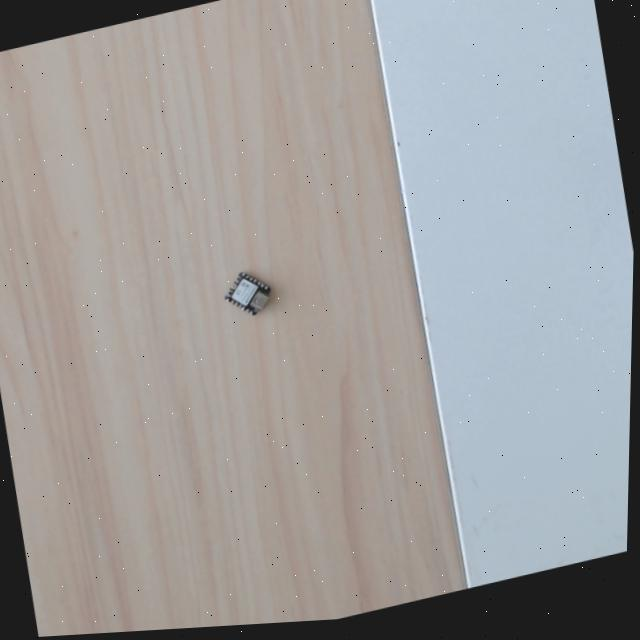ESP32C3-Xiao: (220, 268, 275, 321)
